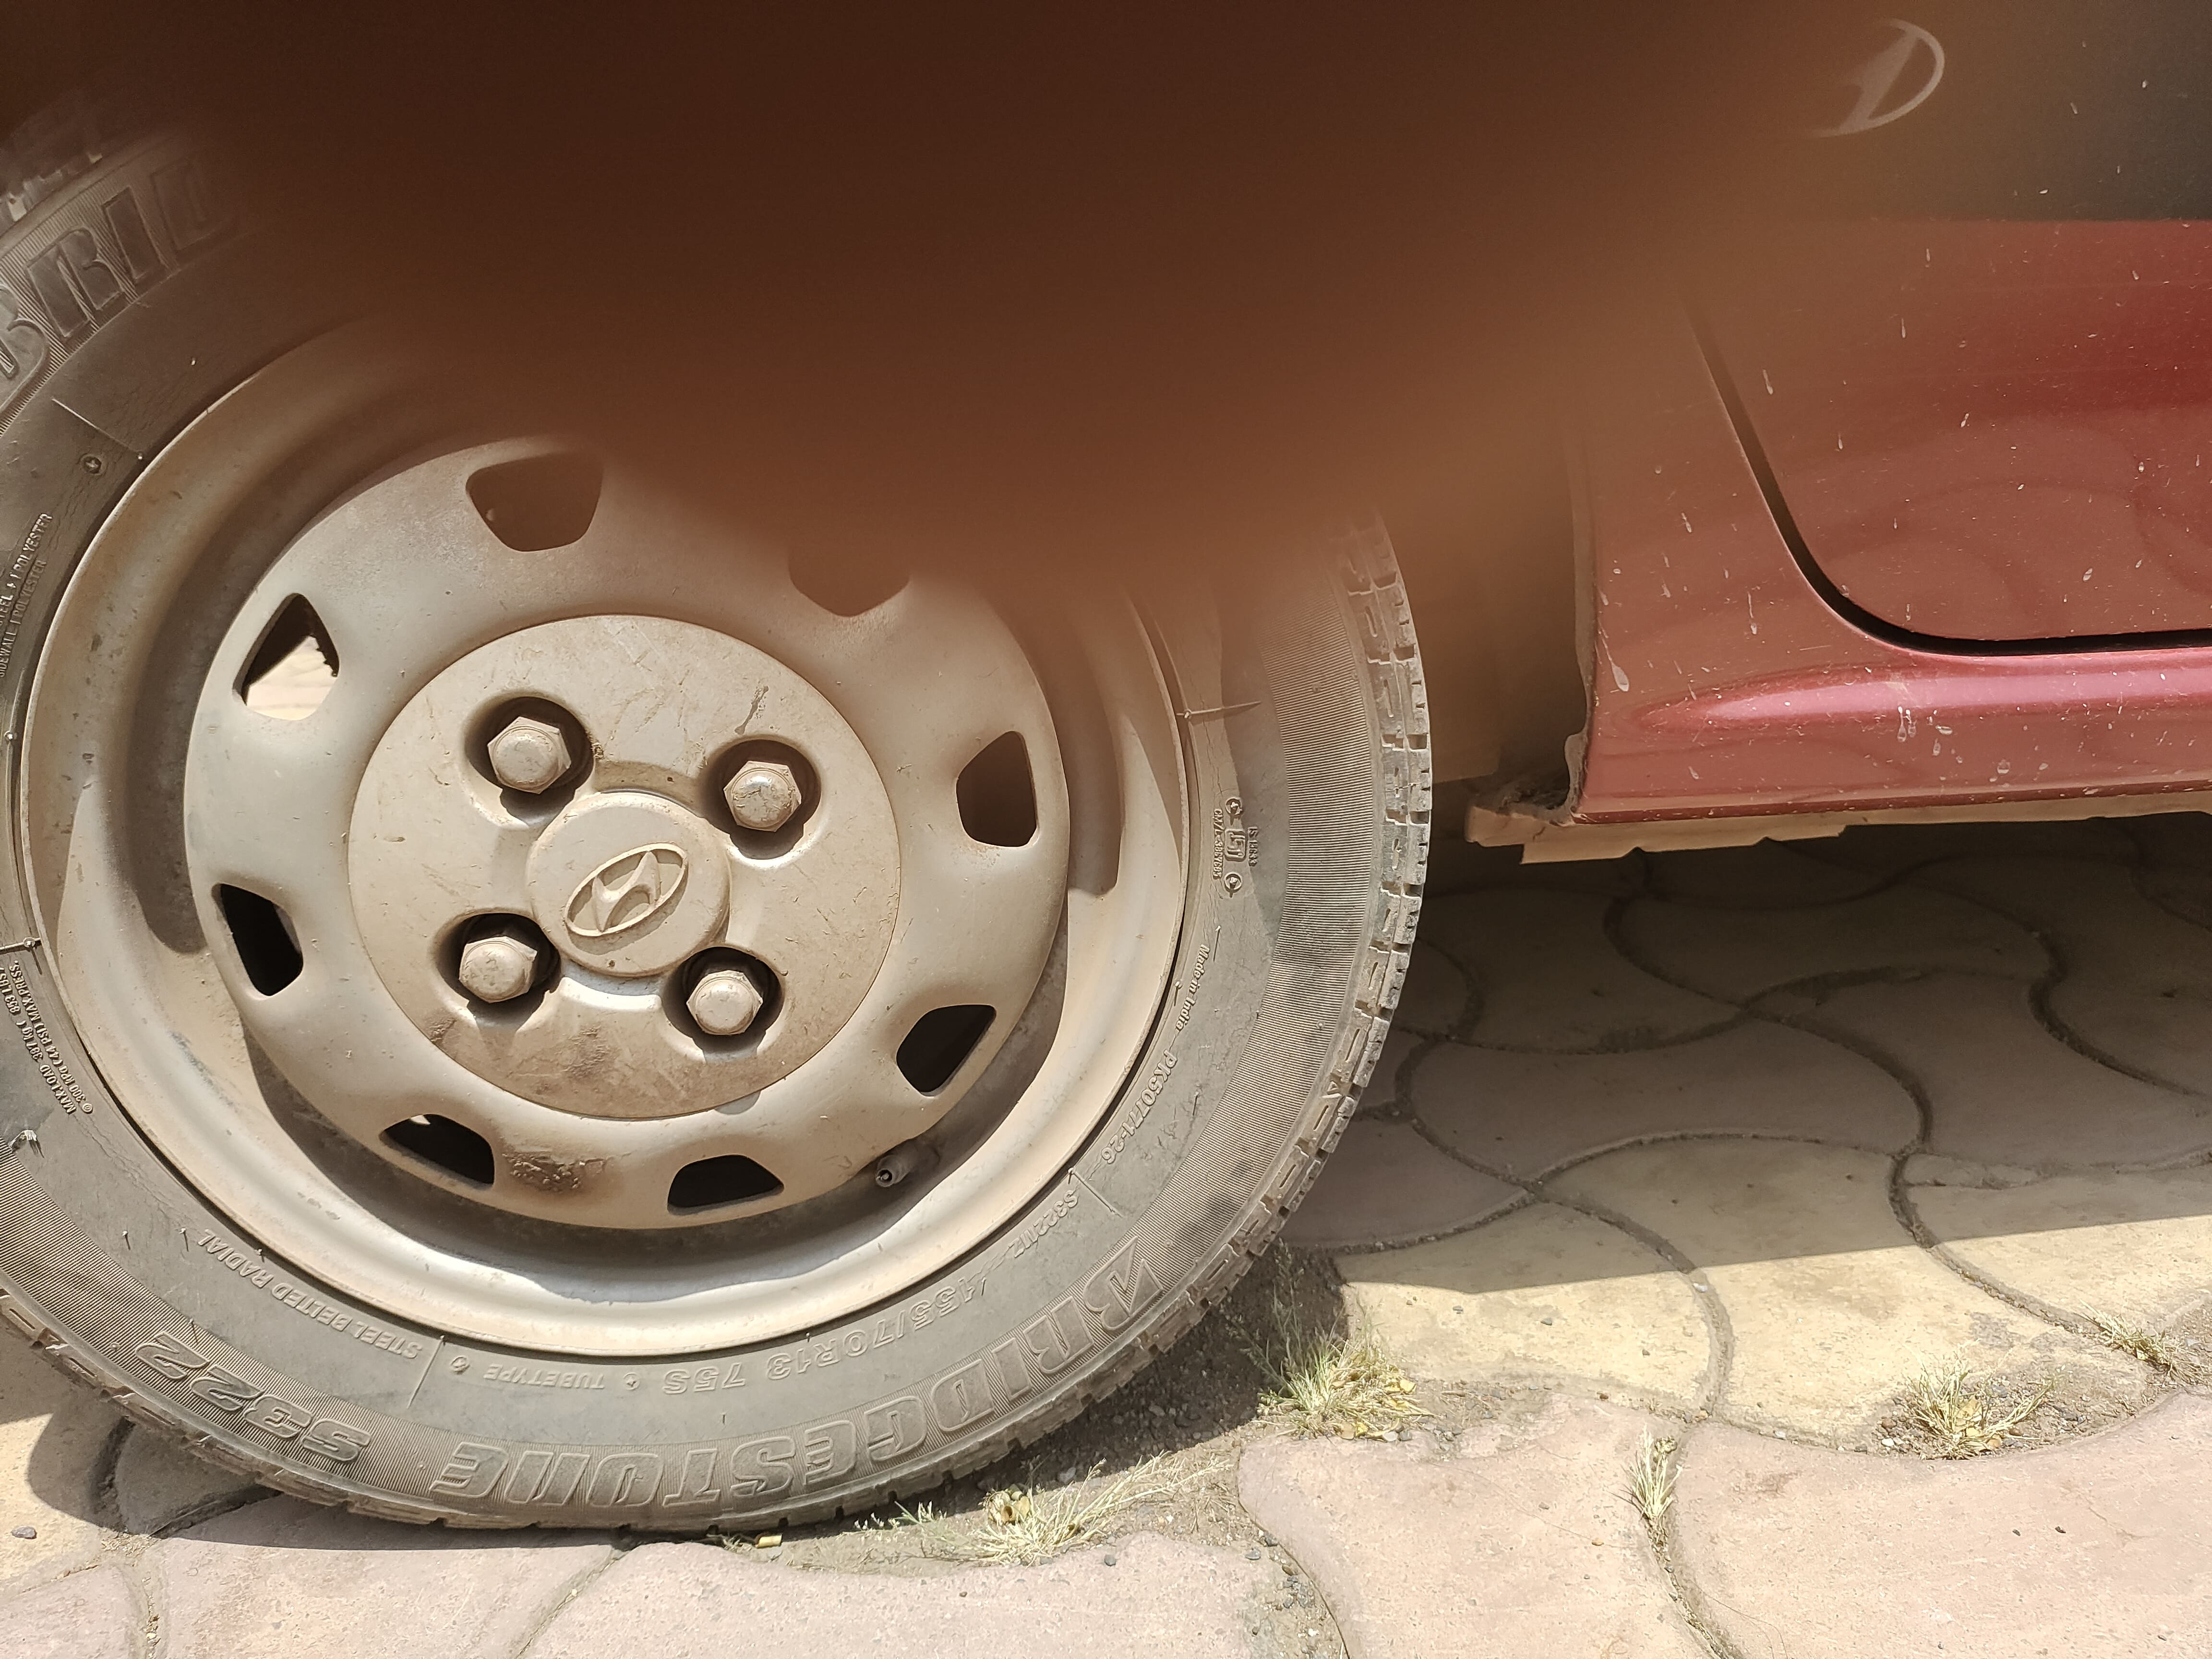l: (698, 725, 820, 861), (662, 945, 791, 1060), (456, 701, 577, 821), (430, 915, 561, 1014)
